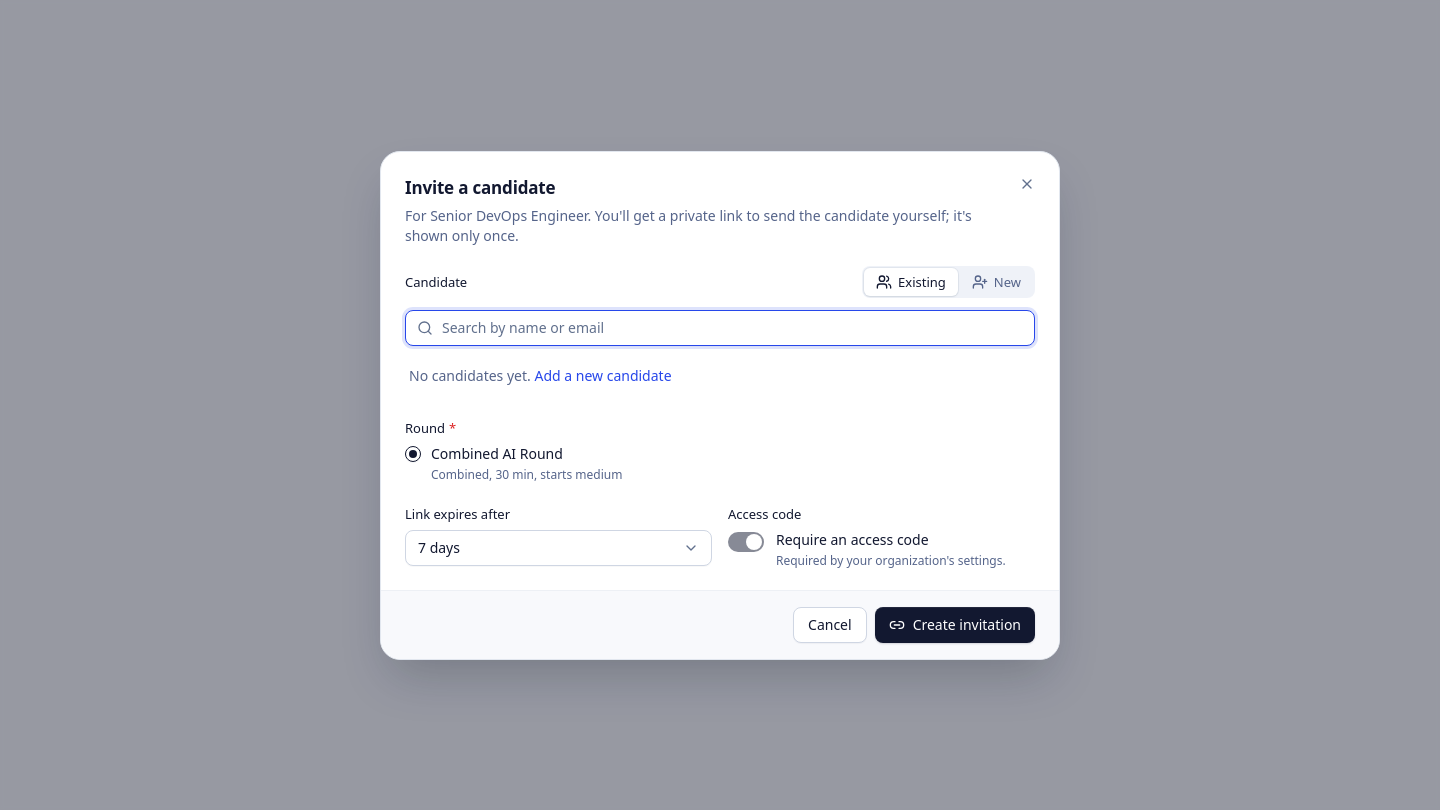
Test: InviteDialog › asks for a candidate before submitting
Expected: the switch named "require an access code" is disabled, left=728, top=532, right=764, bottom=552
Click the button "Create invitation" at (955, 624), box left=875, top=606, right=1035, bottom=642
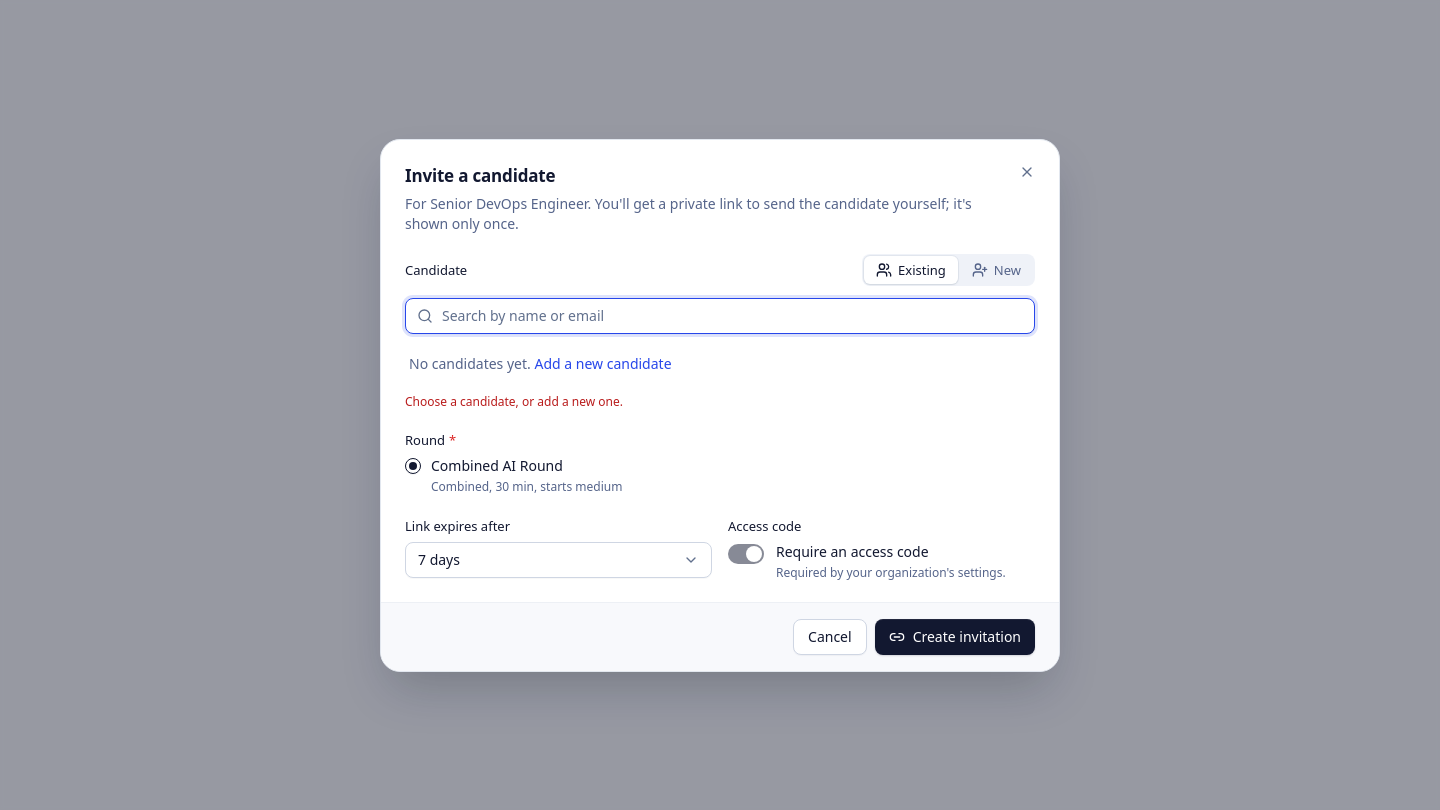
Expected: the switch named "require an access code" is checked, left=728, top=544, right=764, bottom=564
Result: the text "Choose a candidate, or add a new one." is shown at left=405, top=392, right=623, bottom=410
